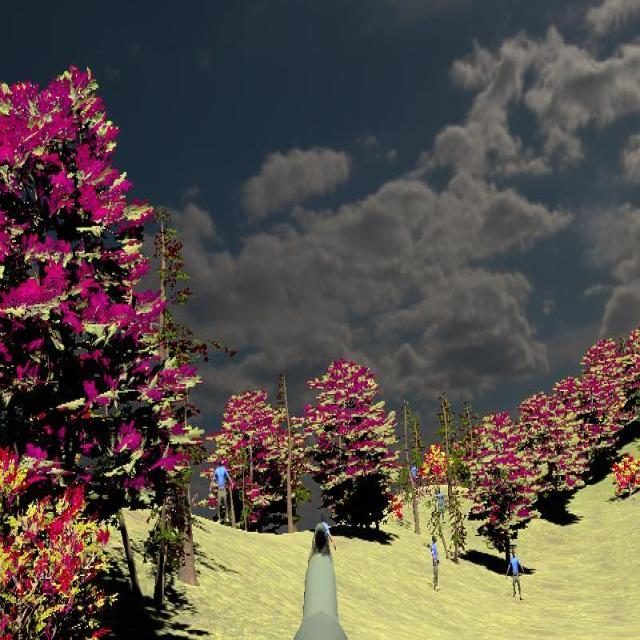Human: (209, 455, 233, 527), (506, 549, 525, 600)
